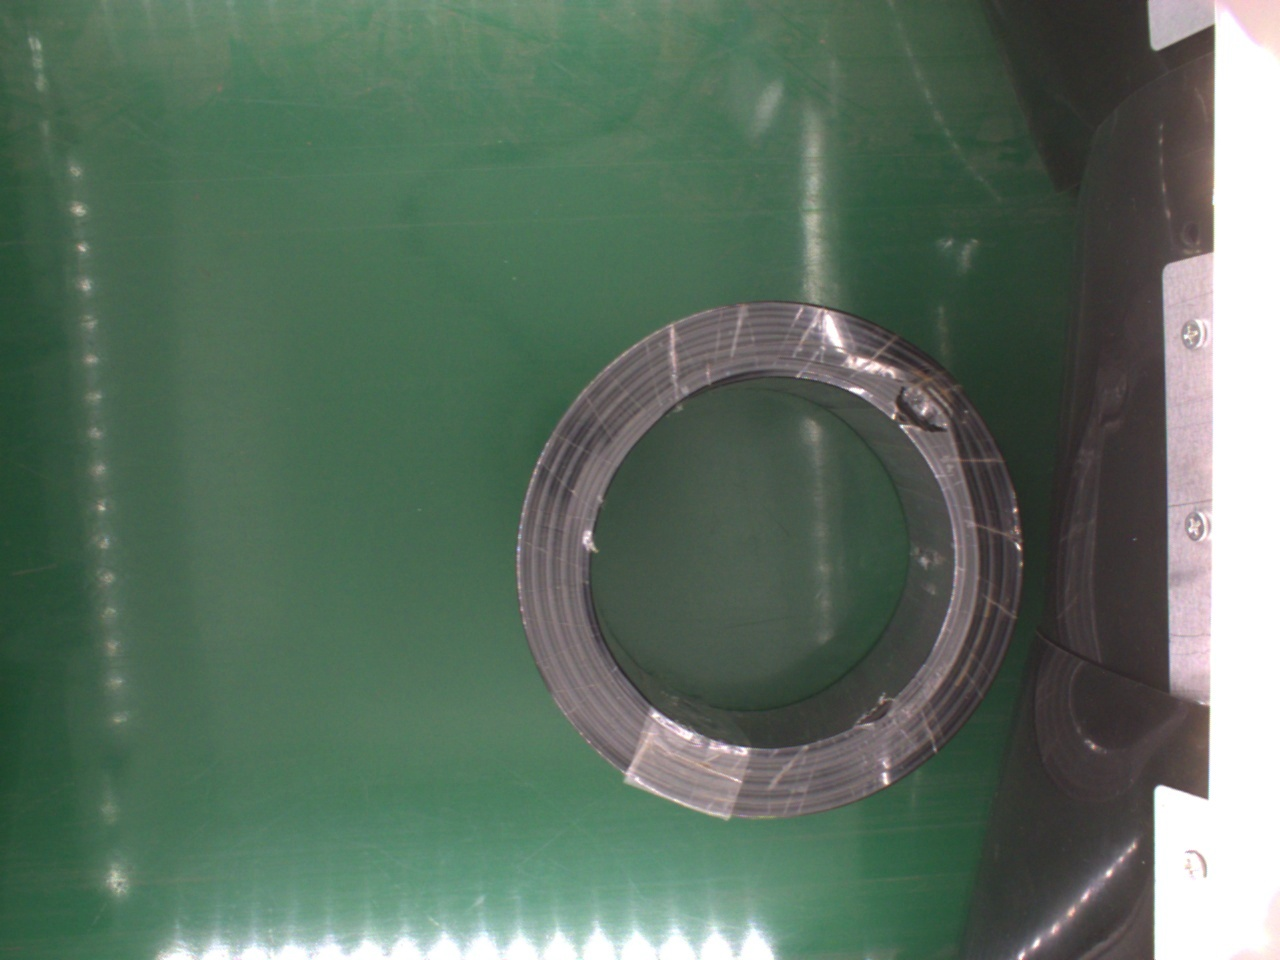black: (512, 302, 1029, 822)
